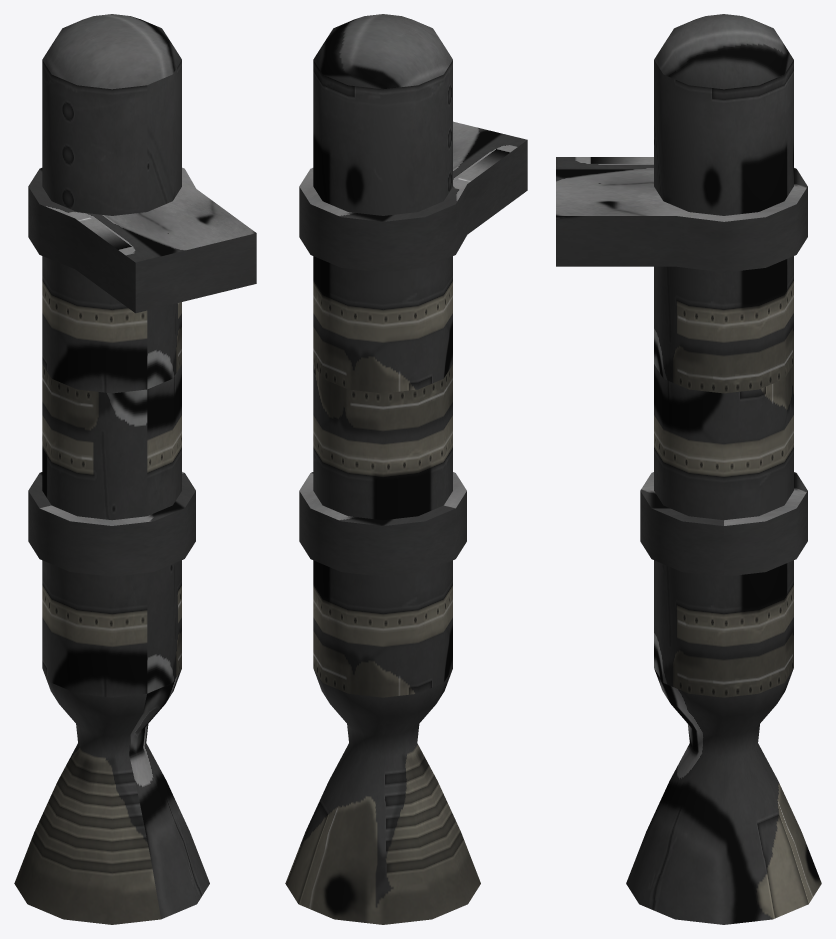
File: big_nesting_jet.fbx
3 renders of one model, left to right at view 1: azimuth 30°, elevation 25°; view 2: azimuth 150°, elevation 25°; view 3: azimuth 270°, elevation 25°, orthographic.
Visible parts, largest first — view 1: mesh; view 2: mesh; view 3: mesh.
Boxes of the visible parts, bbox=[...] form: mesh: bbox=[14, 14, 256, 924]; mesh: bbox=[285, 14, 527, 924]; mesh: bbox=[556, 14, 821, 924].
Size of the model in its own units: 0.0875 by 0.425 by 0.1187.
